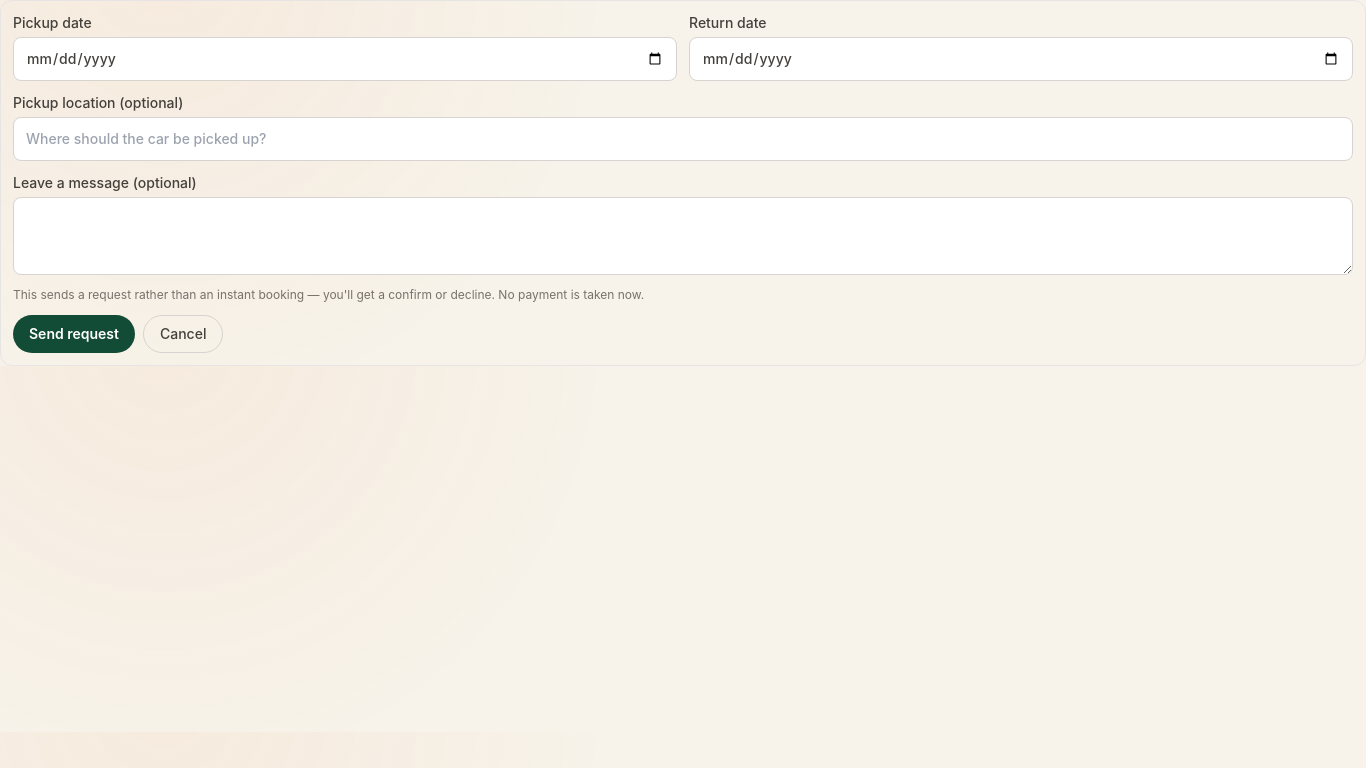
Test: BookingRequestSection (car listing) › shows the ordinary pending message when the booking is not Instant Book
Type "2026-01-01" into the date field labelled "Pickup date" at (345, 59), box [13,37,677,81]
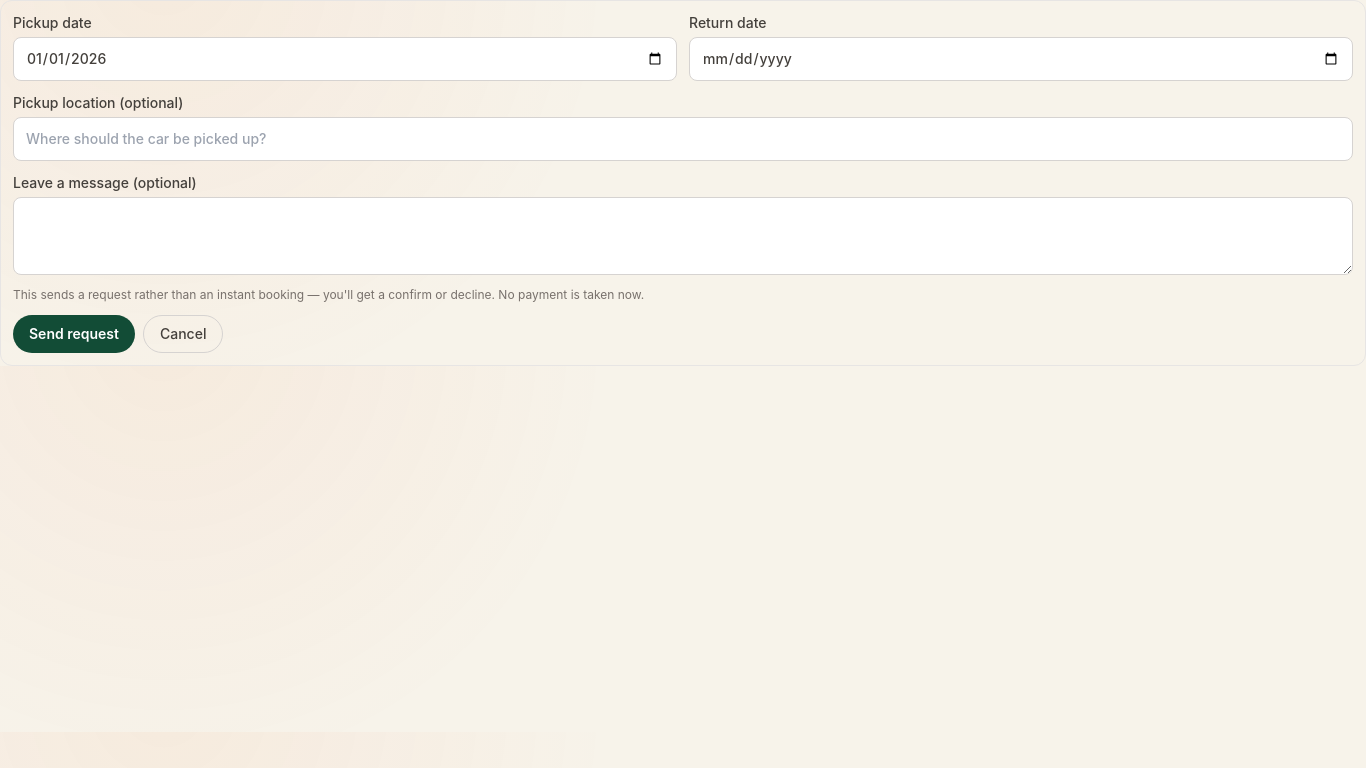
Type "2026-01-03" into the date field labelled "Return date" at (1021, 59), box [689,37,1353,81]
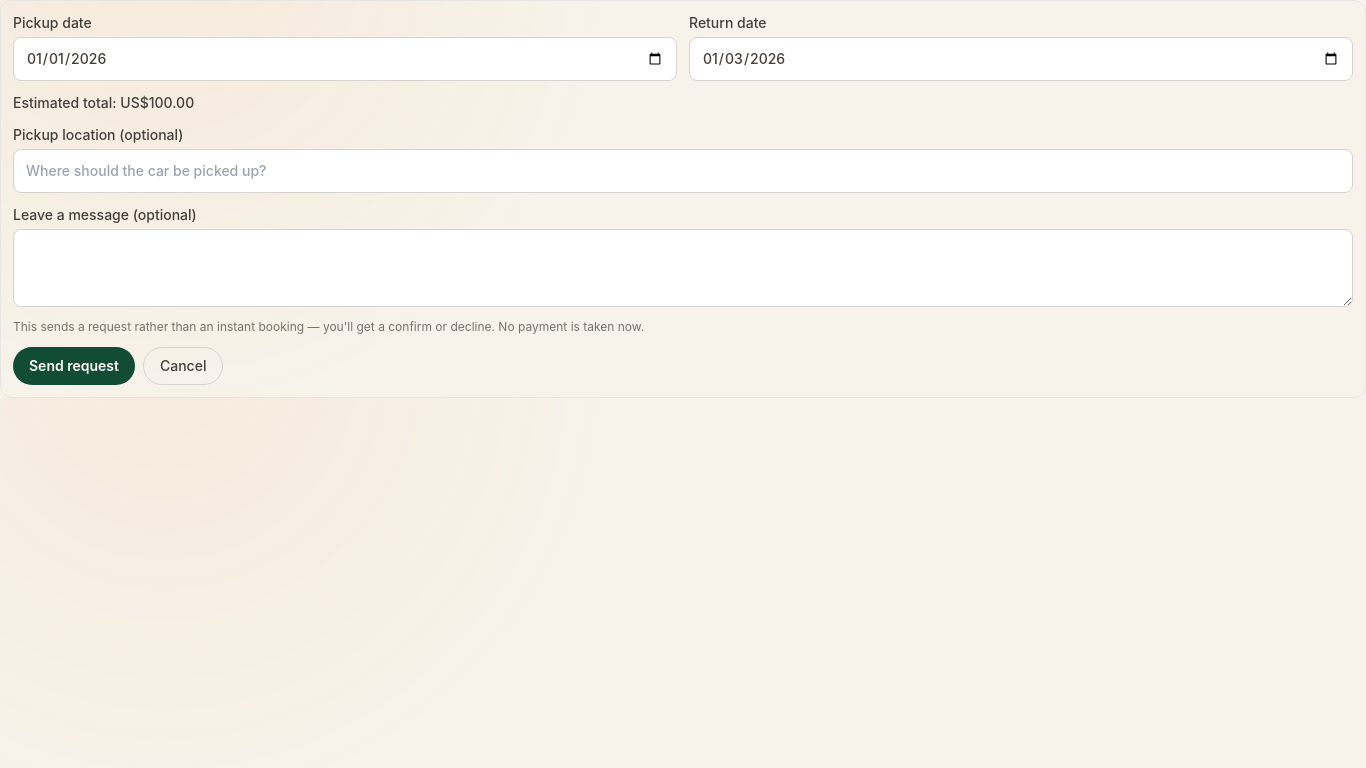
Click the button "Send request" at (74, 366), box [13,347,135,385]
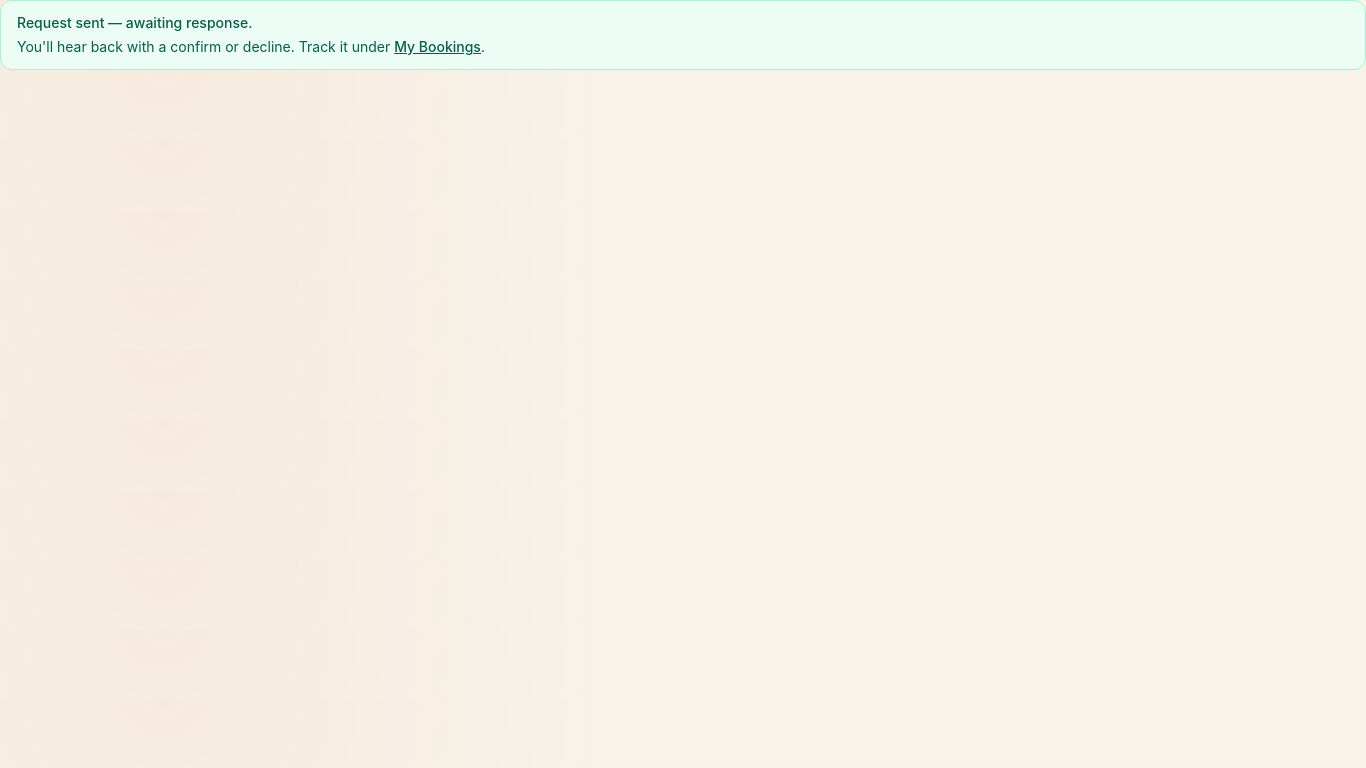
expect the text "Request sent — awaiting response." is shown: met, box [17,14,252,31]
